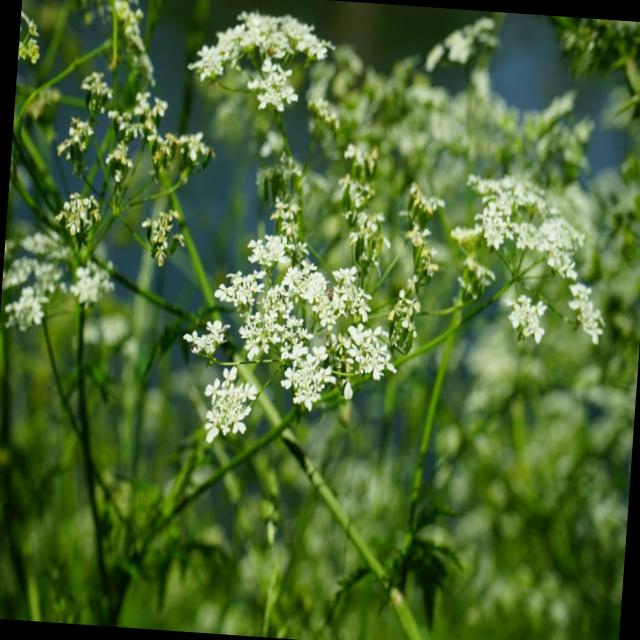Poisonous-Hemlock: (134, 0, 631, 497), (44, 65, 194, 299)
